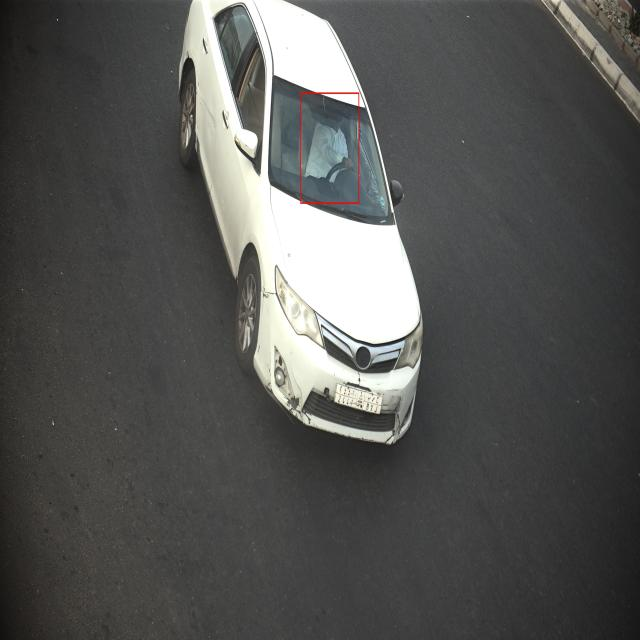windshield: (260, 69, 395, 226)
